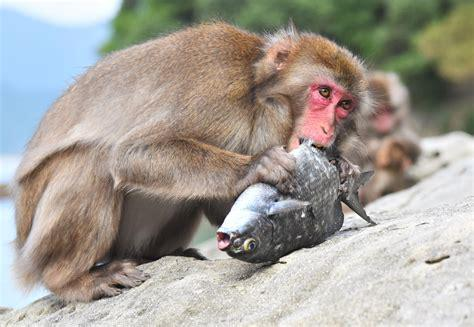monkey: (15, 27, 365, 302)
